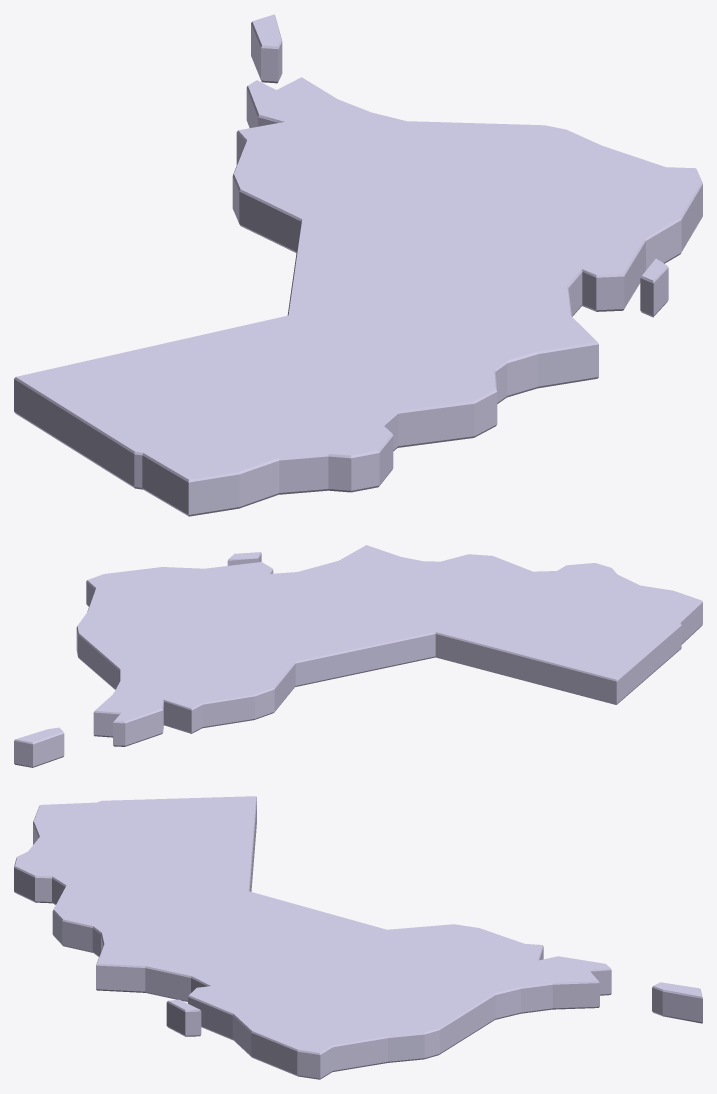
Rendered from OMN.glb.
3 views of the same model, one above another, from view 1: azimuth 30°, elevation 25°; view 2: azimuth 150°, elevation 25°; view 3: azimuth 270°, elevation 25° (orthographic). The views are drawn at different scales.
Size of the model in its own units: 1.4 by 0.068 by 1.58.
